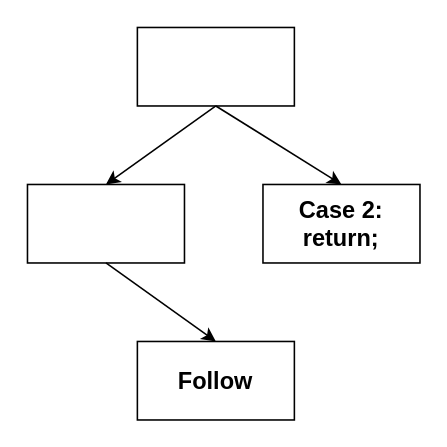
Some shapes in this 447 by 447 pixel diagram are drawn without their labels. The shapes that lost their labels are listed below. From the top down, each one's centre as x and y in pixels, then its label:
At [215,66]: "Switch Head".
At [105,223]: "Case 1: xxx; break;".
